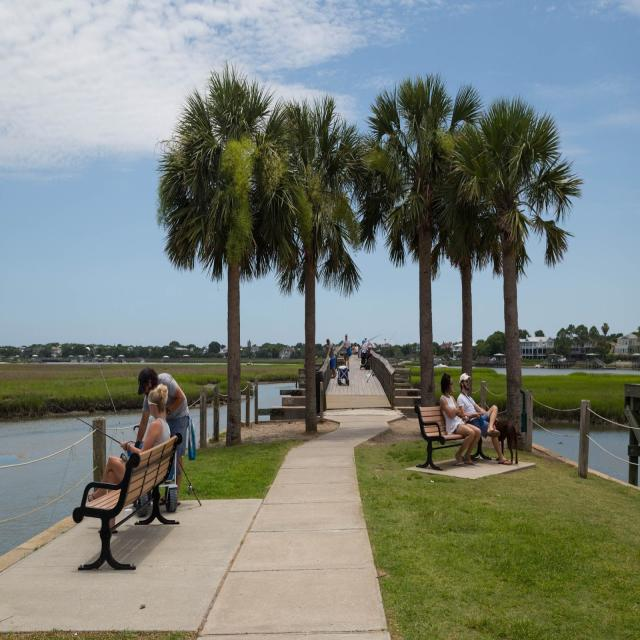body: (86, 381, 172, 536), (134, 366, 190, 507), (456, 371, 512, 466), (438, 371, 482, 468), (326, 337, 337, 379), (342, 334, 351, 371), (361, 337, 369, 352), (354, 344, 359, 354), (352, 346, 355, 355)
